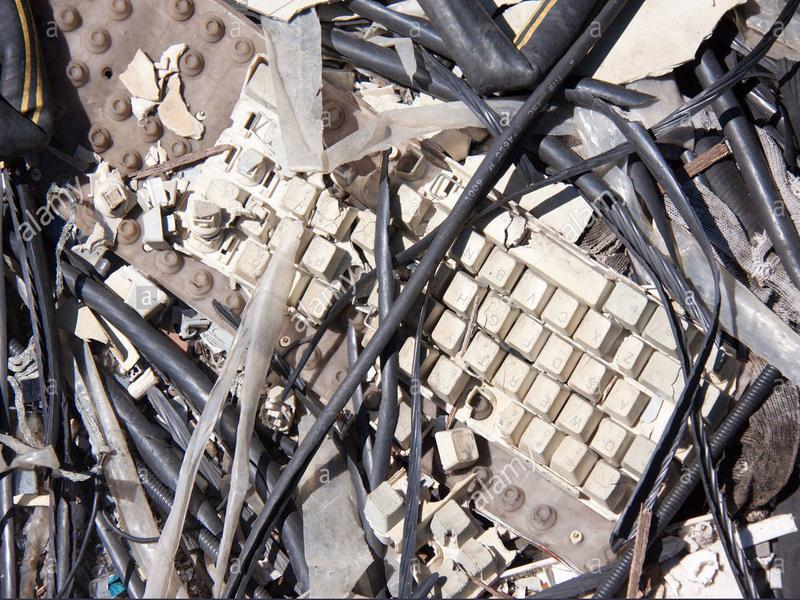keyboard: (168, 55, 720, 532)
